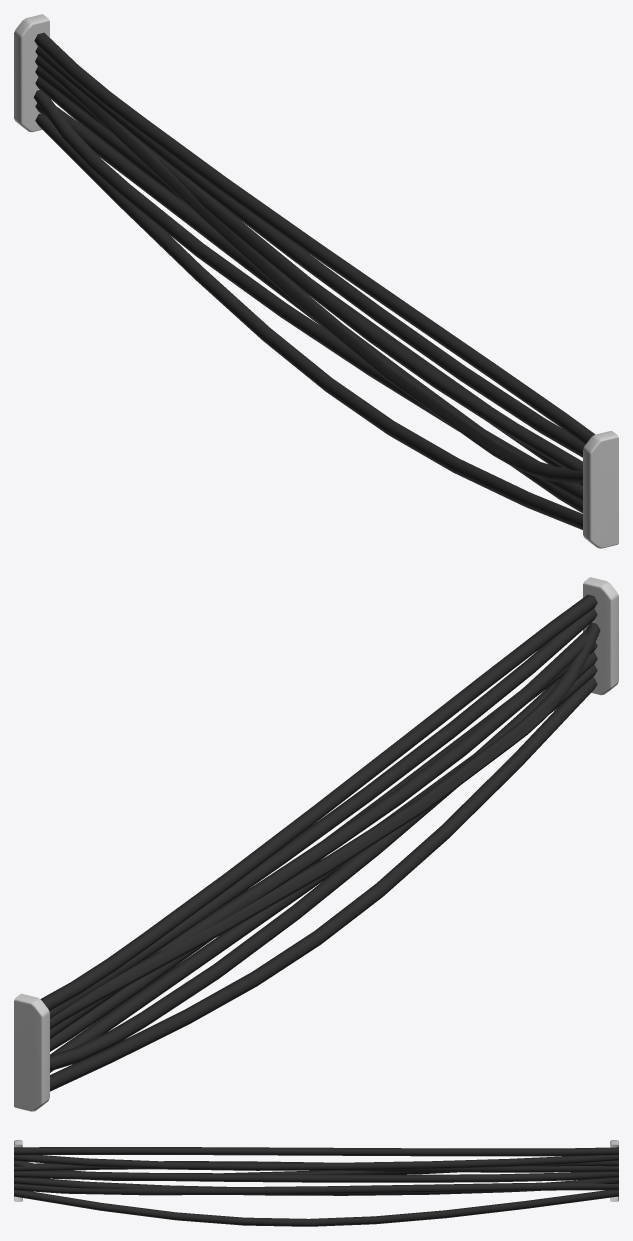
File: SM_WiresWall_A.FBX
3 renders of one model, top to bottom at view 1: azimuth 30°, elevation 25°; view 2: azimuth 150°, elevation 25°; view 3: azimuth 270°, elevation 25°, orthographic. The views are drawn at different scales.
Parts seen in each view (by area): view 1: SM_WiresWall_A; view 2: SM_WiresWall_A; view 3: SM_WiresWall_A.
Part boxes in pixels (x1,y1,x2,y2): SM_WiresWall_A: [14, 14, 618, 548]; SM_WiresWall_A: [14, 577, 618, 1111]; SM_WiresWall_A: [14, 1140, 618, 1226].
Size of the model in its own units: 28.47 by 122 by 800.
